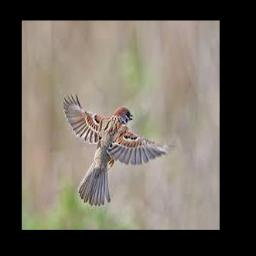Sparrow: (63, 92, 174, 206)
